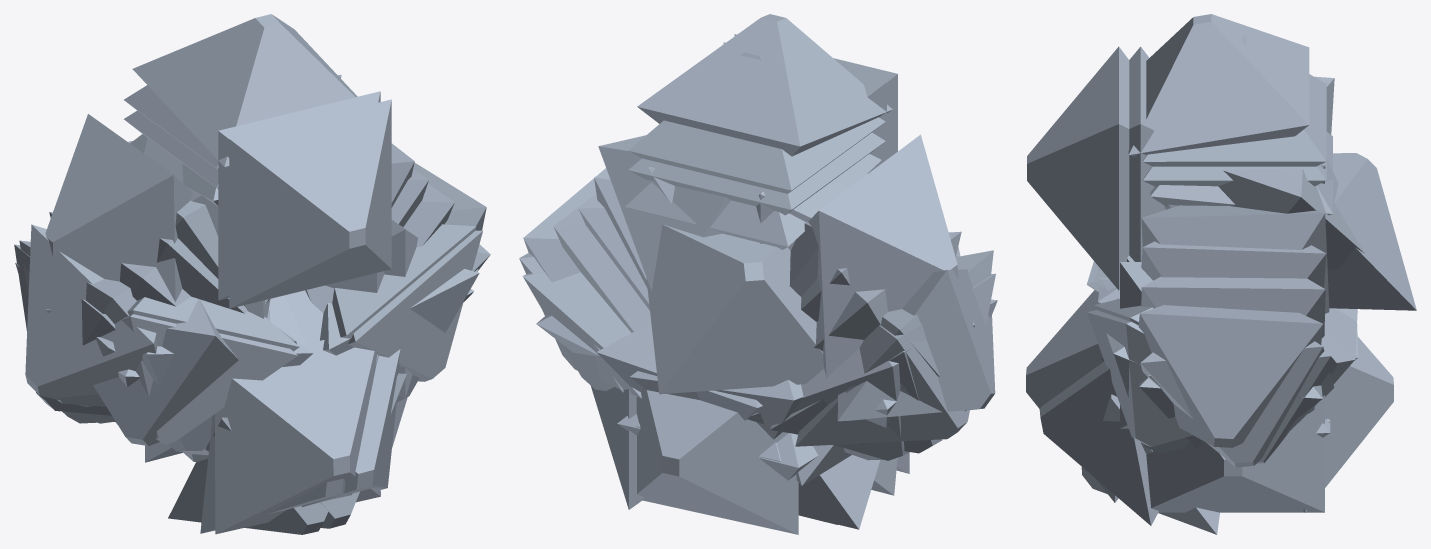
Rendered from Rei Ayanami School Clothes.obj.
The picture shows the model from 3 angles, left to right: view 1: azimuth 30°, elevation 25°; view 2: azimuth 150°, elevation 25°; view 3: azimuth 270°, elevation 25°; orthographic projection. The views are drawn at different scales.
Parts seen in each view (by area): view 1: Dummy_face, Dummy_r_leg, c_neck, Dummy_r_sleeve, Dummy_r_finger10, Dummy_r_finger00, l_finger00, r_finger00, l_leg03, l_arm03, c_face, r_arm03 (+24 smaller); view 2: Dummy_l_skirt10, c_neck, Dummy_r_sleeve, Dummy_l_leg, Dummy_r_finger10, c_spine01, Dummy_r_finger20, Dummy_l_finger00, l_finger20, c_spine00, c_waist, l_arm02 (+22 smaller); view 3: c_neck, l_finger10, Dummy_face, NotABone0, Dummy_l_skirt10, l_leg03, l_arm00, l_arm02, Dummy_l_leg, c_spine01, Dummy_l_finger00, l_finger00 (+14 smaller).
Part boxes in pixels (left/top/right/bottom): Dummy_face: left=229, top=99, right=391, bottom=308; Dummy_r_leg: left=215, top=340, right=380, bottom=534; c_neck: left=132, top=14, right=357, bottom=167; Dummy_r_sleeve: left=45, top=114, right=192, bottom=301; Dummy_r_finger10: left=25, top=224, right=157, bottom=407; Dummy_r_finger00: left=45, top=299, right=238, bottom=445; l_finger00: left=348, top=230, right=482, bottom=381; r_finger00: left=121, top=314, right=297, bottom=444; l_leg03: left=301, top=349, right=400, bottom=507; l_arm03: left=332, top=224, right=476, bottom=338; c_face: left=218, top=91, right=380, bottom=300; r_arm03: left=127, top=296, right=299, bottom=351; Dummy_l_skirt10: left=646, top=224, right=824, bottom=394; c_neck: left=637, top=14, right=892, bottom=156; Dummy_r_sleeve: left=808, top=134, right=958, bottom=377; Dummy_l_leg: left=636, top=387, right=798, bottom=534; Dummy_r_finger10: left=837, top=269, right=995, bottom=421; c_spine01: left=628, top=52, right=885, bottom=193; Dummy_r_finger20: left=795, top=273, right=995, bottom=446; Dummy_l_finger00: left=598, top=135, right=730, bottom=290; l_finger20: left=522, top=272, right=631, bottom=390; c_spine00: left=628, top=132, right=885, bottom=215; c_waist: left=625, top=154, right=881, bottom=249; l_arm02: left=553, top=194, right=651, bottom=332; c_neck: left=1128, top=14, right=1309, bottom=156; l_finger10: left=1138, top=305, right=1323, bottom=447; Dummy_face: left=1027, top=46, right=1129, bottom=290; NotABone0: left=1146, top=395, right=1324, bottom=512; Dummy_l_skirt10: left=1327, top=153, right=1416, bottom=310; l_leg03: left=1039, top=361, right=1158, bottom=525; l_arm00: left=1141, top=205, right=1329, bottom=313; l_arm02: left=1141, top=276, right=1325, bottom=337; Dummy_l_leg: left=1303, top=336, right=1393, bottom=512; c_spine01: left=1142, top=35, right=1326, bottom=166; Dummy_l_finger00: left=1218, top=158, right=1364, bottom=270; l_finger00: left=1087, top=310, right=1192, bottom=446.
Size of the model in its own units: 2.7 by 2.85 by 2.13.
